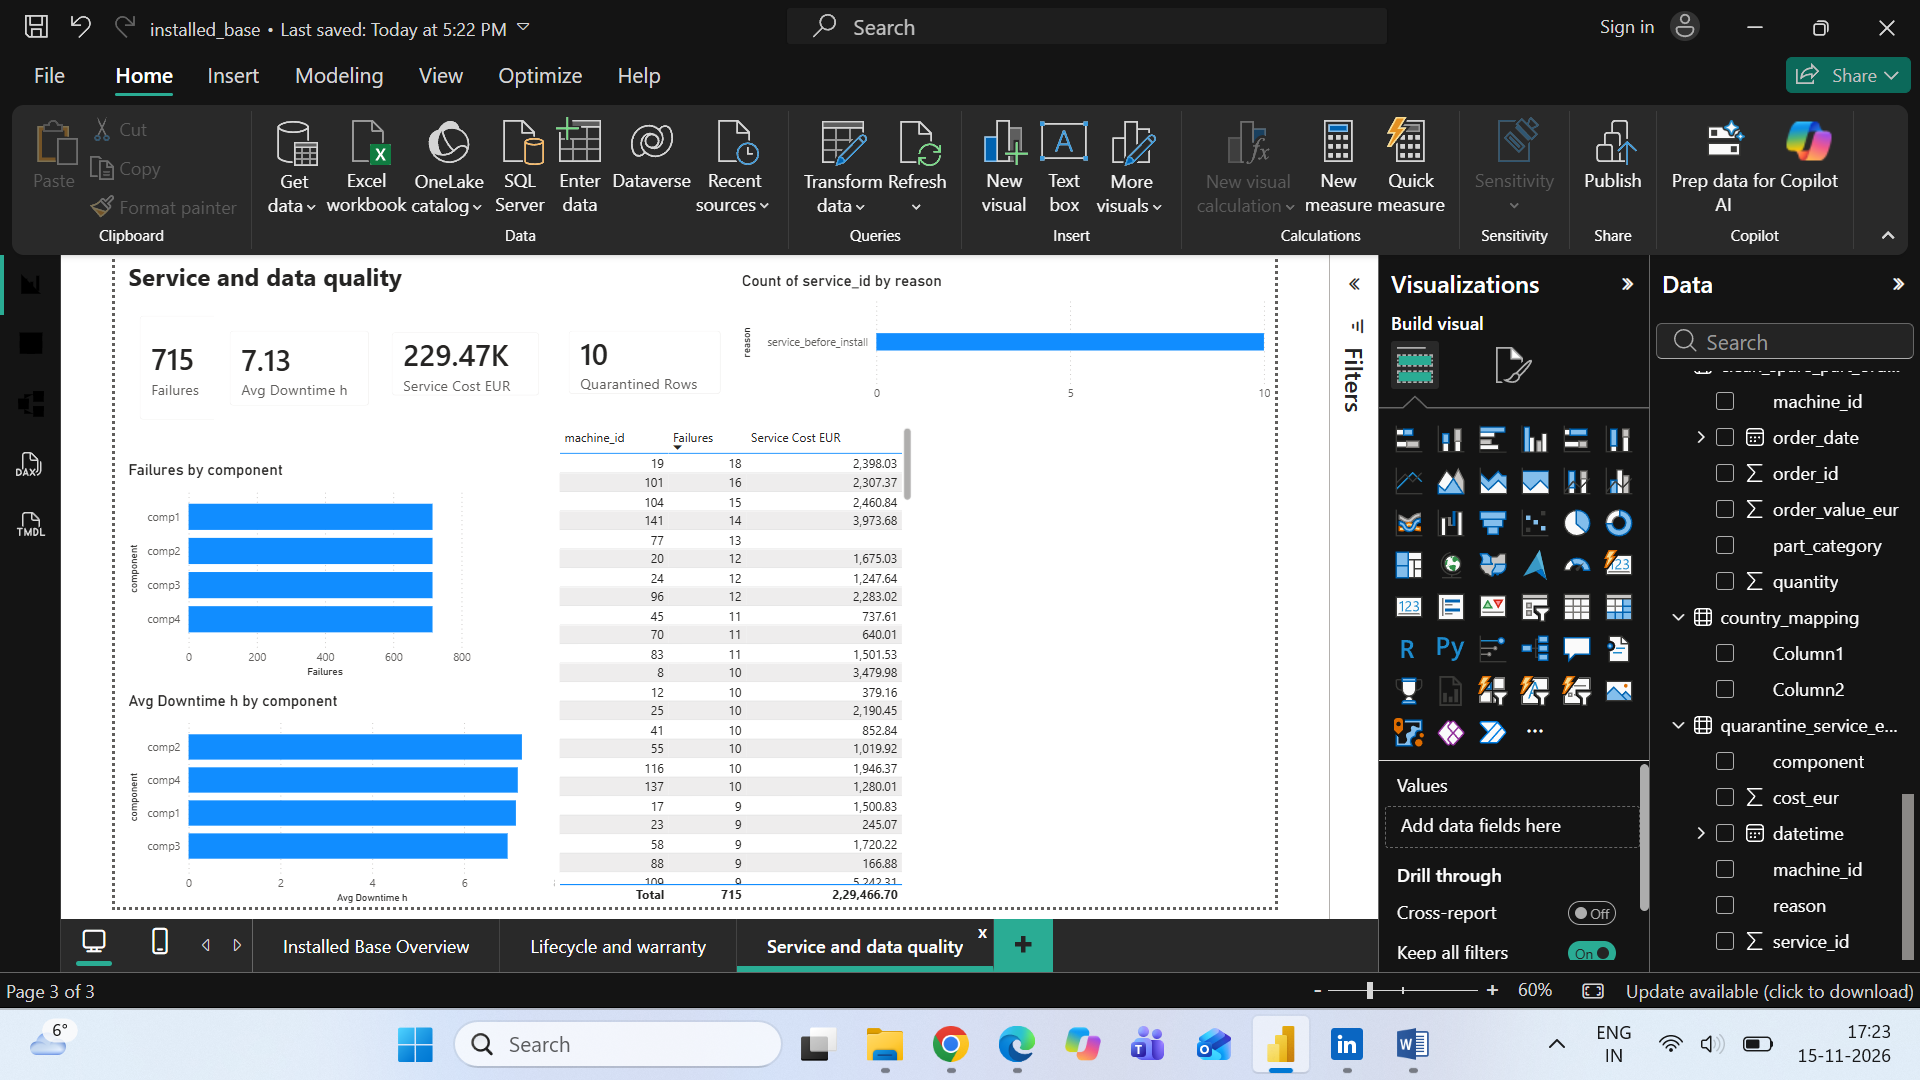

This screenshot's page, from the dashboard's own definition file:
{"tool":"powerbi","page":{"name":"Service and data quality","canvas":[1280,720],"ordinal":2},"visuals":[{"type":"textbox","box":[9.4,0,444.1,68],"z":0},{"type":"cardVisual","fields":{"Data":["clean_machines.Failures"]},"box":[9.4,49.1,155,149.3],"z":1000},{"type":"cardVisual","fields":{"Data":["clean_machines.Avg Downtime h"]},"box":[109.3,66.3,188.8,117.6],"z":2000},{"type":"cardVisual","fields":{"Data":["clean_machines.Service Cost EUR"]},"box":[288.2,67.9,197.1,104.4],"z":3000},{"type":"cardVisual","fields":{"Data":["clean_machines.Quarantined Rows"]},"box":[483.7,66.3,202.1,104.4],"z":4000},{"type":"clusteredBarChart","fields":{"Category":["clean_service_events.component"],"Y":["clean_machines.Failures"]},"box":[9.4,226.8,387.4,243.8],"z":5000},{"type":"clusteredBarChart","fields":{"Category":["clean_failures.component"],"Y":["clean_machines.Avg Downtime h"]},"box":[9.4,481.9,485.7,238.1],"z":6000},{"type":"tableEx","fields":{"Values":["clean_machines.machine_id","clean_machines.Failures","clean_machines.Service Cost EUR"]},"box":[485.3,185.5,399.2,535],"z":7000},{"type":"clusteredBarChart","fields":{"Category":["quarantine_service_events.reason"],"Y":["CountNonNull(quarantine_service_events.service_id)"]},"box":[687.4,18.2,593,152.4],"z":8000}]}

Visuals, with their boxes on the page's 1280x720 design canvas (x1, y1, x2, y2). These are canvas units, not pixel positions in the 1920x1080 screenshot, which may show the page scaled, cropped or inside an application window:
textbox: region(9, 0, 454, 68)
cardVisual - clean_machines.Failures: region(9, 49, 164, 198)
cardVisual - clean_machines.Avg Downtime h: region(109, 66, 298, 184)
cardVisual - clean_machines.Service Cost EUR: region(288, 68, 485, 172)
cardVisual - clean_machines.Quarantined Rows: region(484, 66, 686, 171)
clusteredBarChart - clean_service_events.component x clean_machines.Failures: region(9, 227, 397, 471)
clusteredBarChart - clean_failures.component x clean_machines.Avg Downtime h: region(9, 482, 495, 720)
tableEx - clean_machines.machine_id x clean_machines.Failures: region(485, 186, 884, 720)
clusteredBarChart - quarantine_service_events.reason x CountNonNull(quarantine_service_events.service_id): region(687, 18, 1280, 171)
